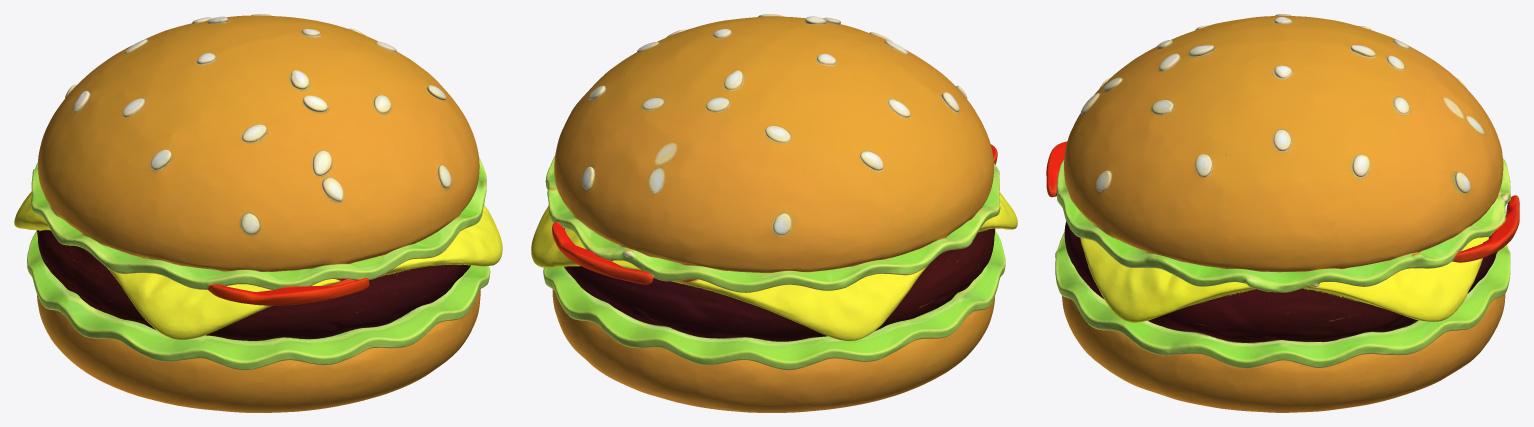
The model's file is House burger.glb.
3 views of the same model, side by side, from view 1: azimuth 30°, elevation 25°; view 2: azimuth 150°, elevation 25°; view 3: azimuth 270°, elevation 25° (orthographic).
Bounding box in the file's own units: 1.85 × 1.28 × 1.9.
Materials: 1 (1 with a texture image).
